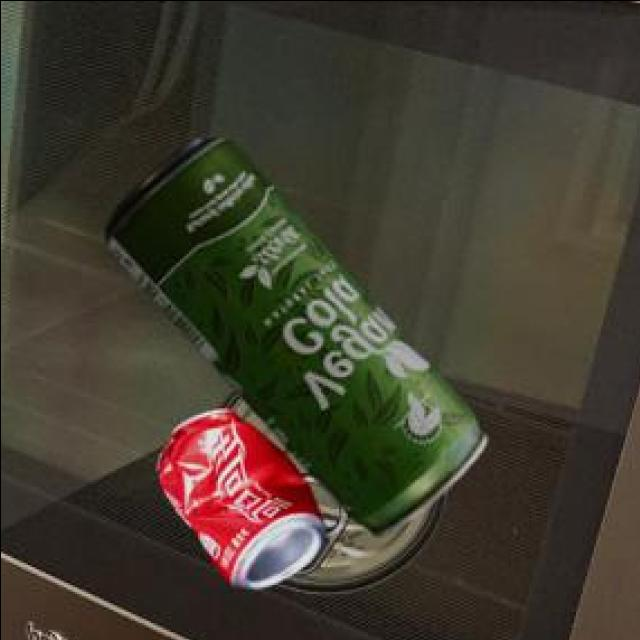logam: (106, 133, 489, 531), (220, 386, 449, 590), (162, 406, 328, 585)
